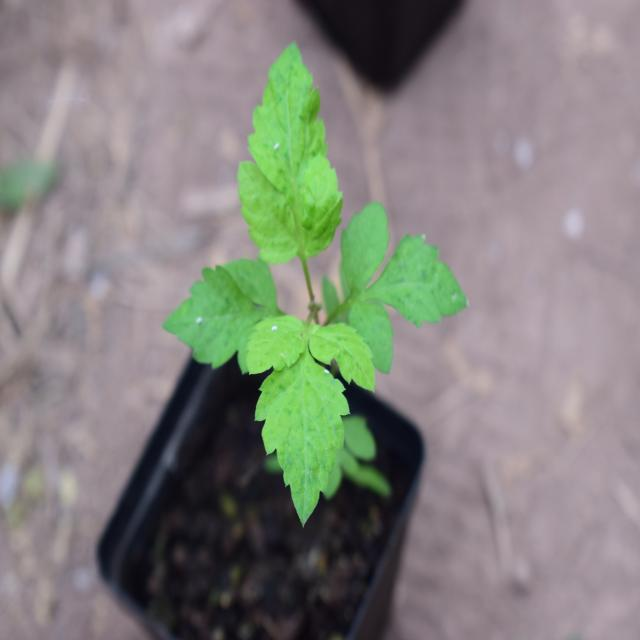Bidens pilosa: (166, 40, 458, 496)
